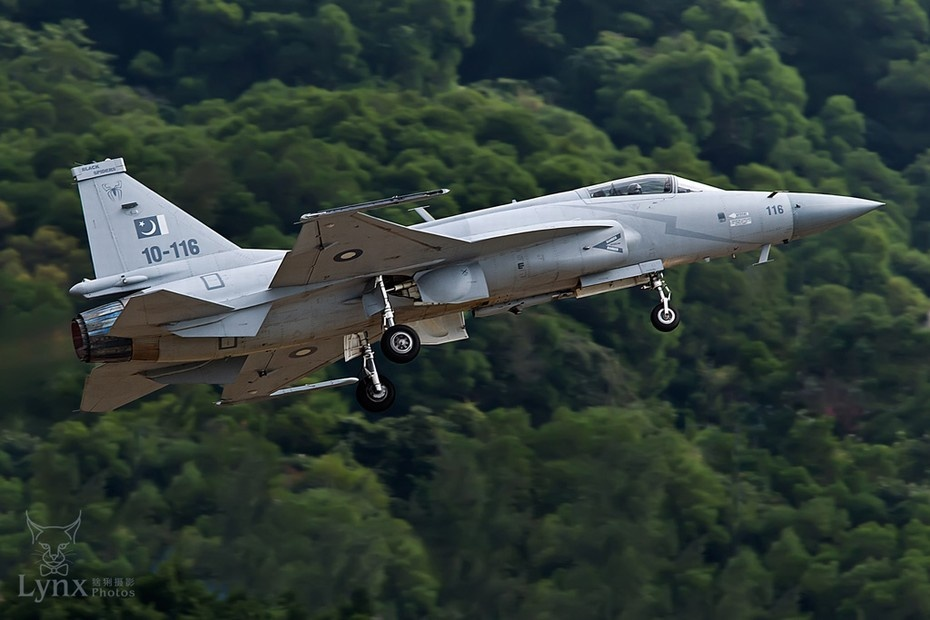airplane: (56, 145, 889, 417)
